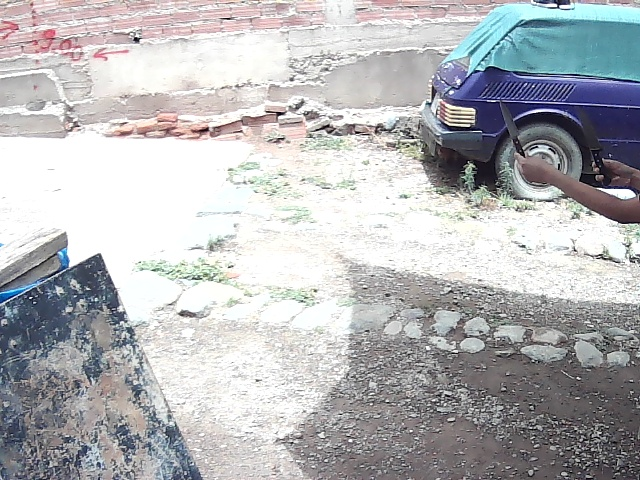cuchillo: (494, 92, 525, 149)
